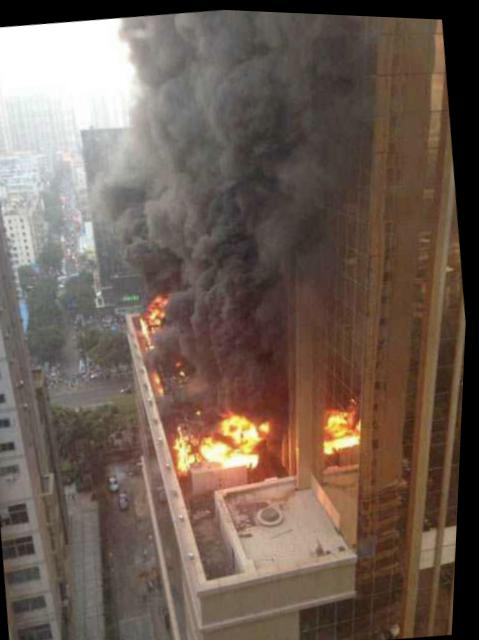fire: (166, 402, 270, 479), (317, 398, 368, 458), (133, 286, 178, 345)
